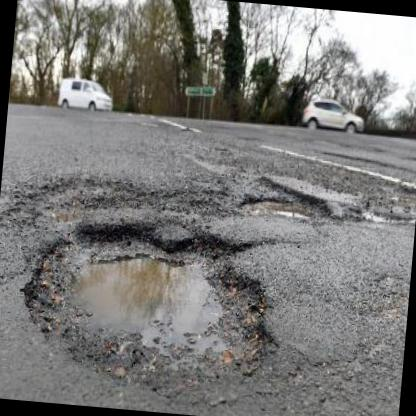pothole: (13, 210, 281, 396), (236, 172, 334, 226)
